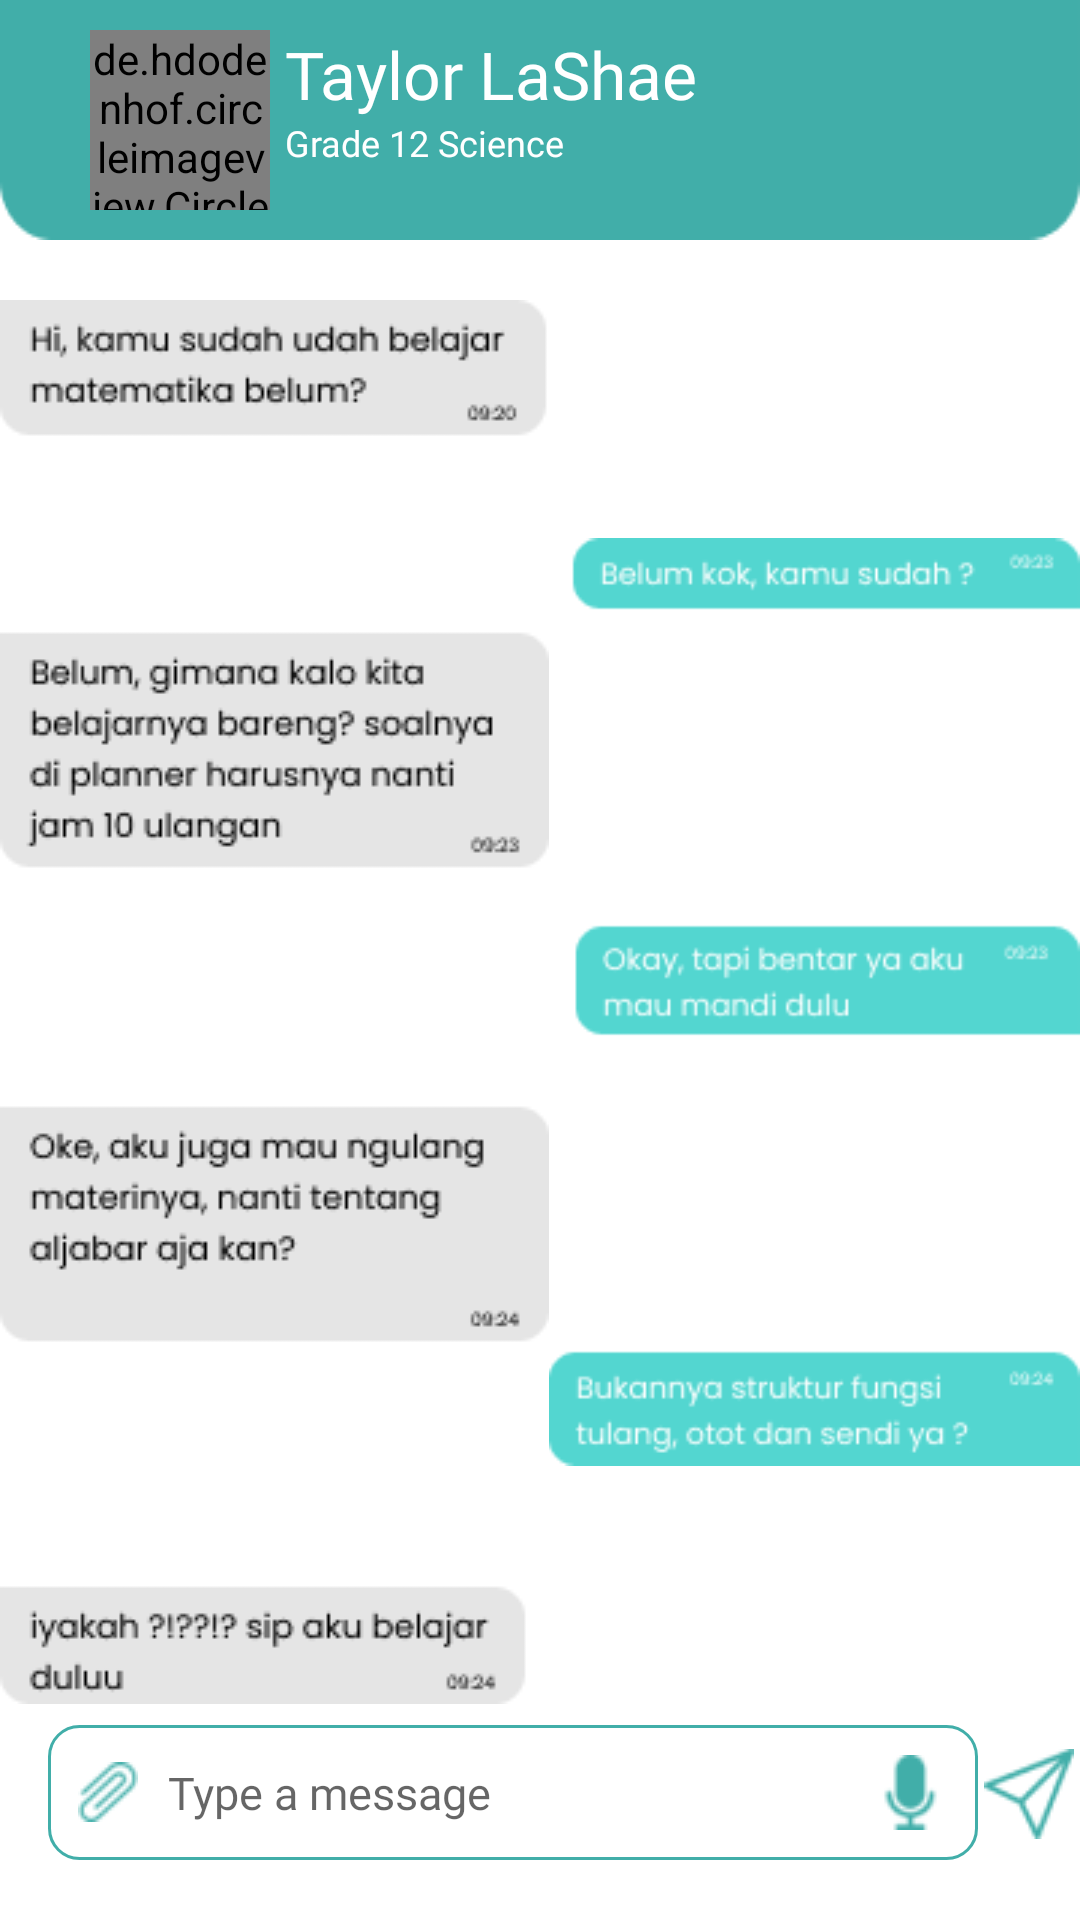

Where icons sit on this 1080 × 1920 app screen, as [left=x1, top=y1, right=x2, bottom=y2]:
send: [left=984, top=1749, right=1074, bottom=1839]
